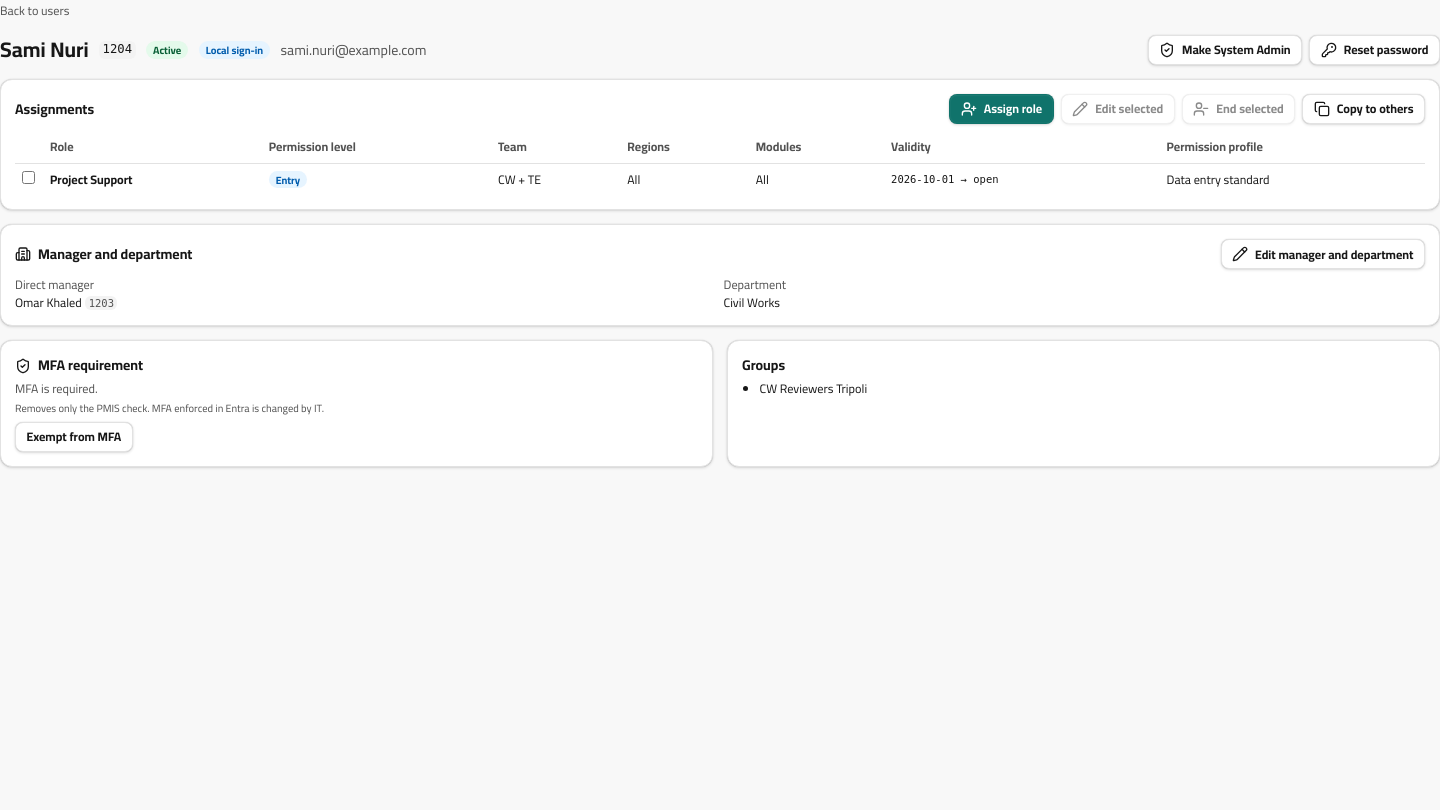
Test: MFA exemption › asks for step-up, then sets the exemption and shows the badge
The width and height of the screenshot is (1440, 810).
Step 1. Click the button with test id "mfa-set" → (74, 437), box [15, 422, 133, 452]
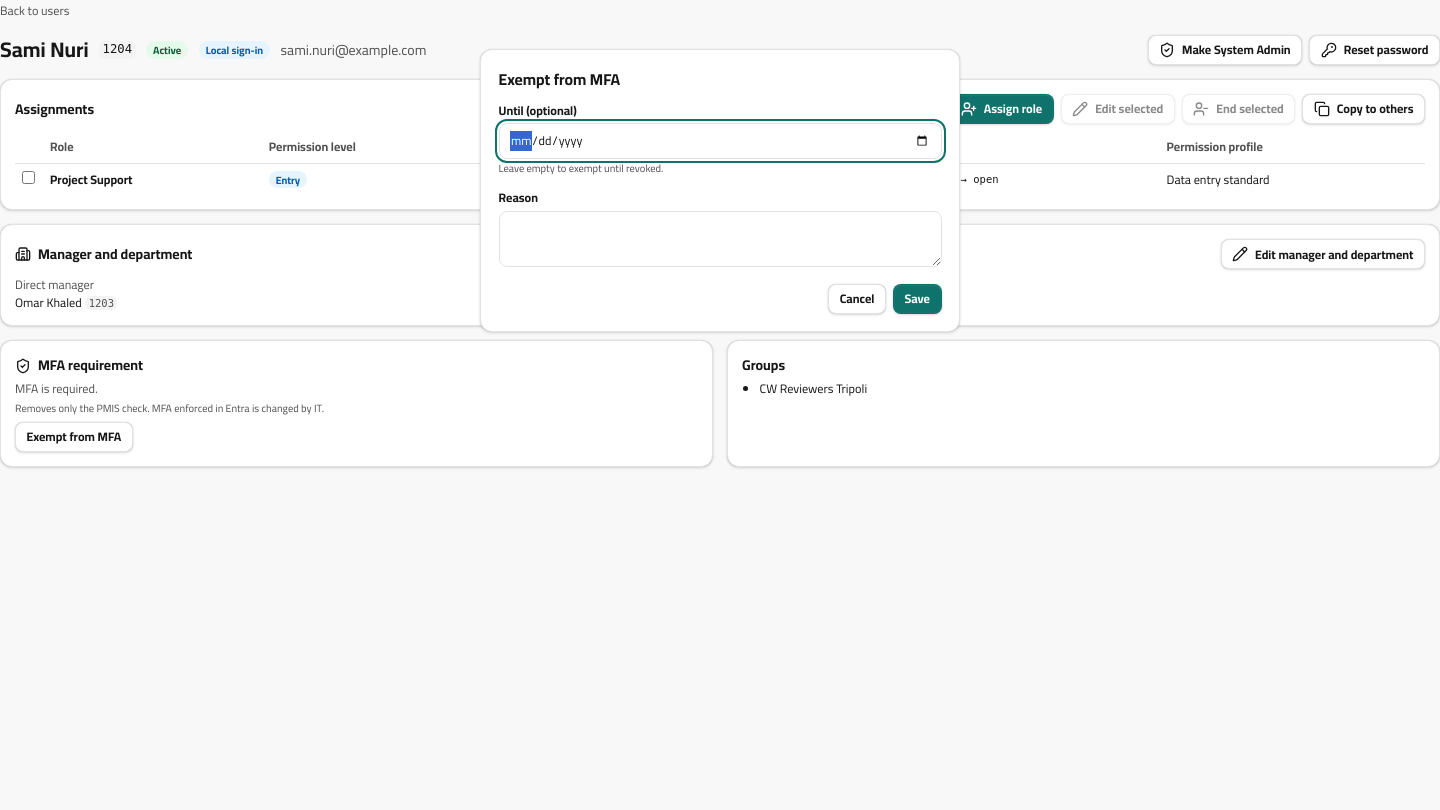
Step 2. Type "Field laptop without authenticator" into the text box with test id "mfa-dialog-reason" → (720, 239), box [498, 211, 942, 267]
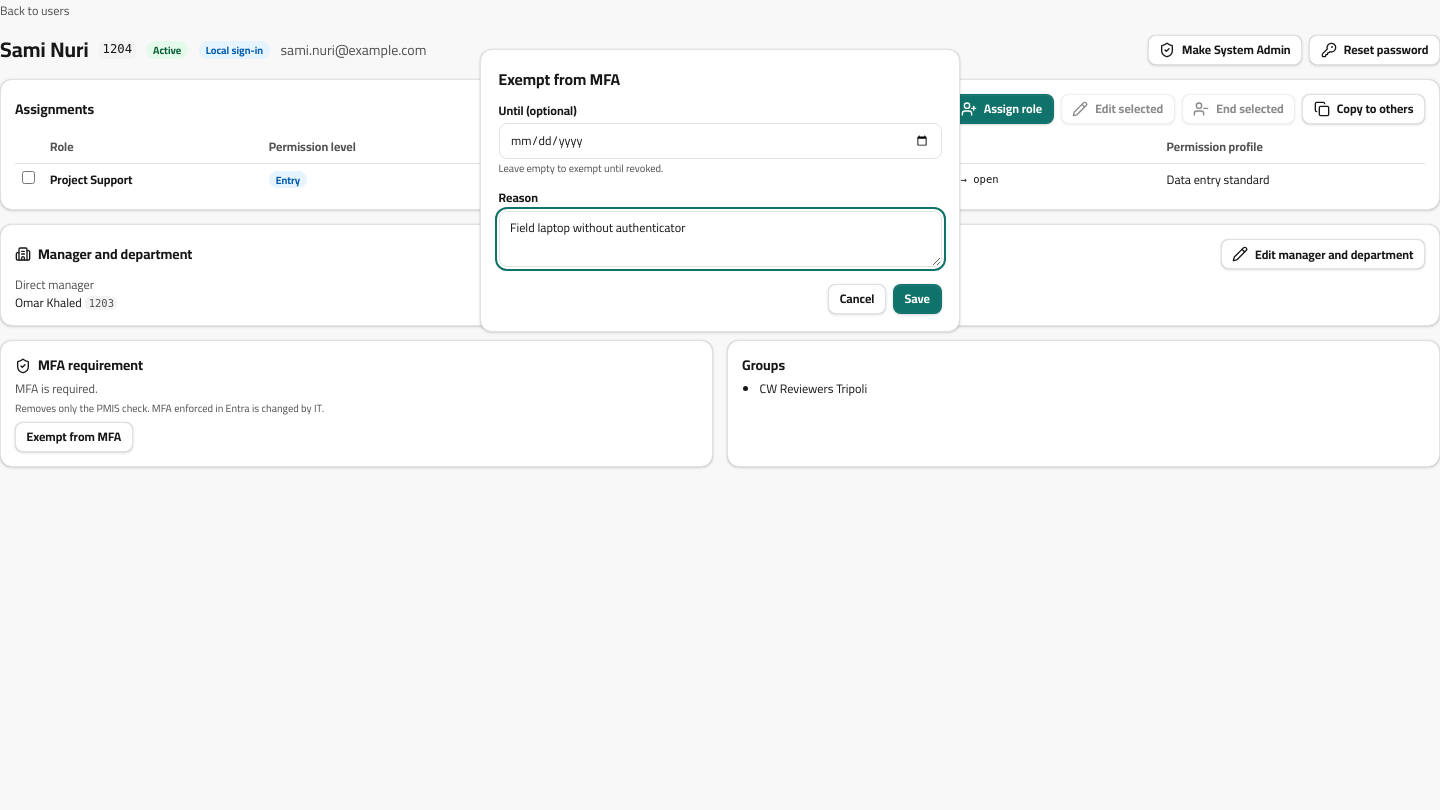
Step 3. Click the button with test id "mfa-dialog-submit" → (917, 299), box [893, 284, 942, 314]
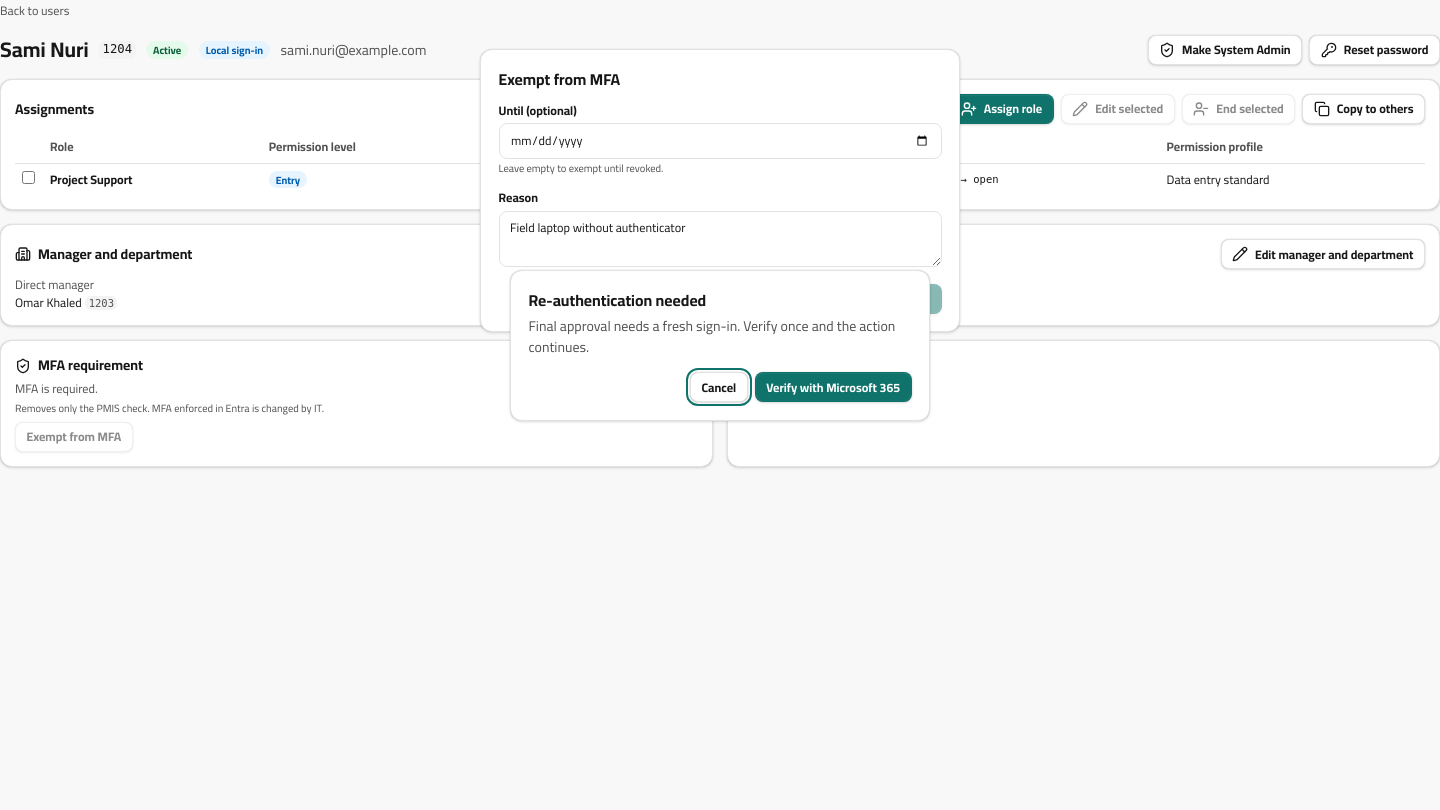
Step 4. Click the button with test id "stepup-cancel" → (719, 388), box [690, 372, 748, 402]
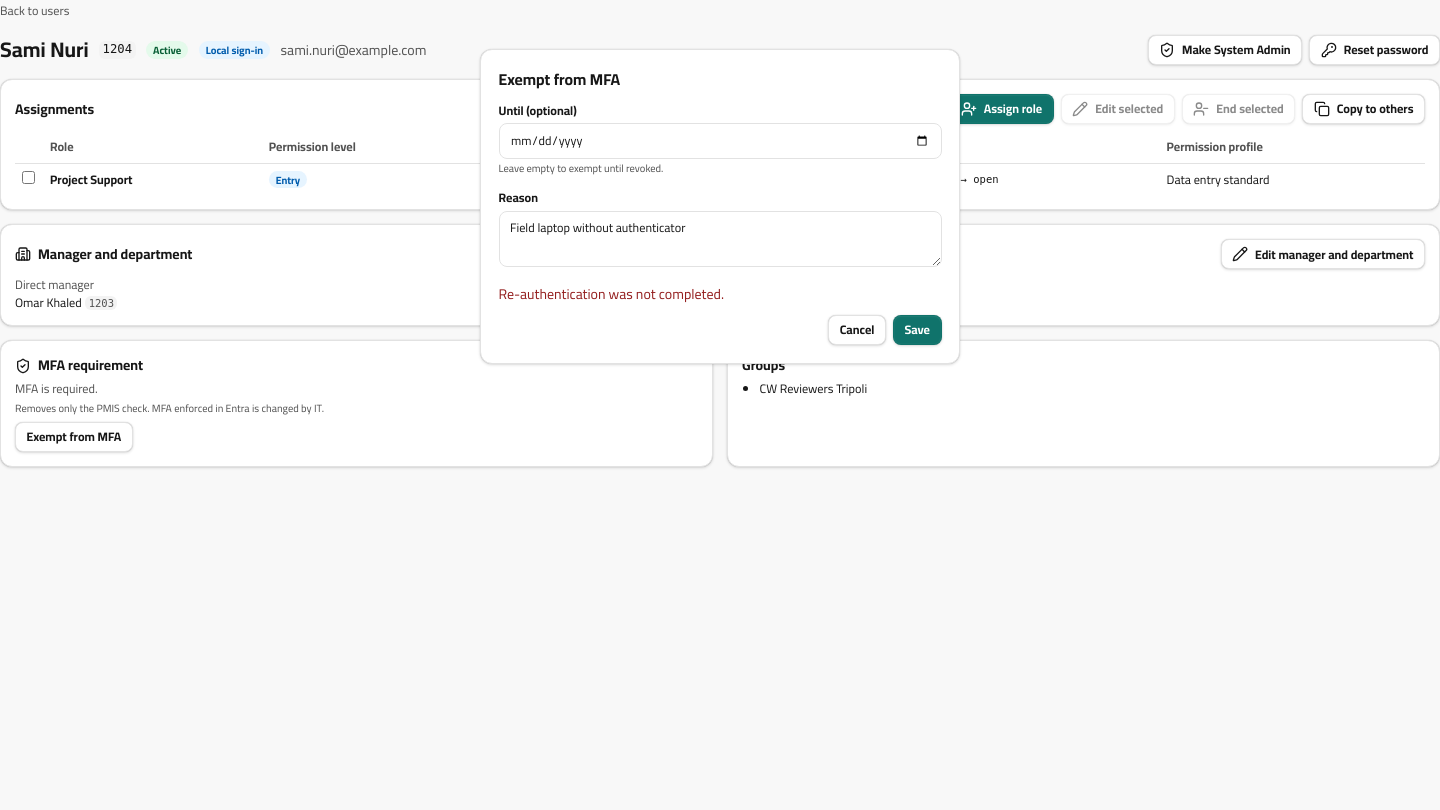
Expected: the message "Re-authentication was not completed." is shown, [498, 281, 724, 307]
Step 5. Click the button with test id "mfa-dialog-submit" → (917, 330), box [893, 315, 942, 345]
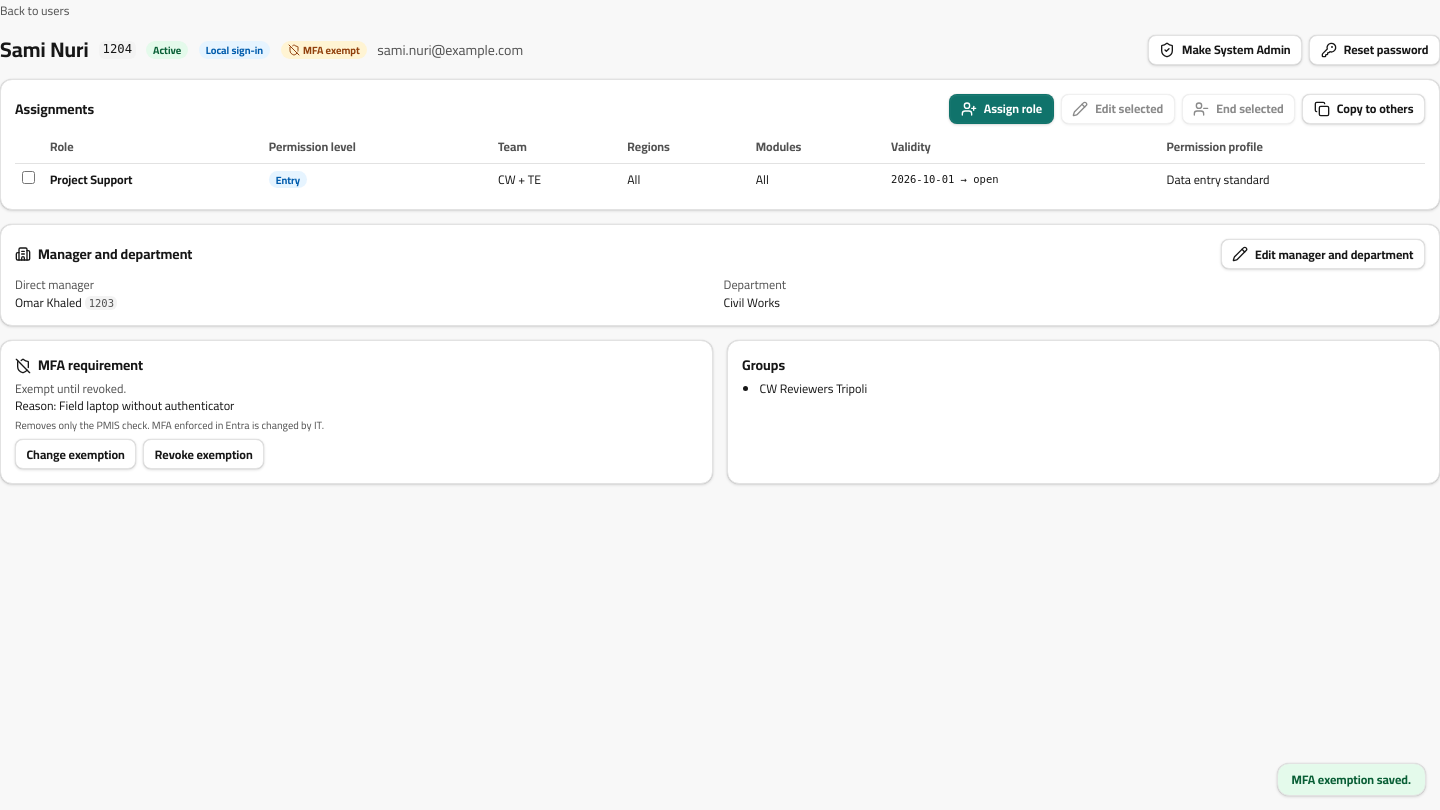
Expected: the text with test id "mfa-state" shows "Exempt until revoked", [15, 377, 126, 400]
Expected: the element with test id "mfa-badge-1204" is shown, [281, 41, 367, 59]
